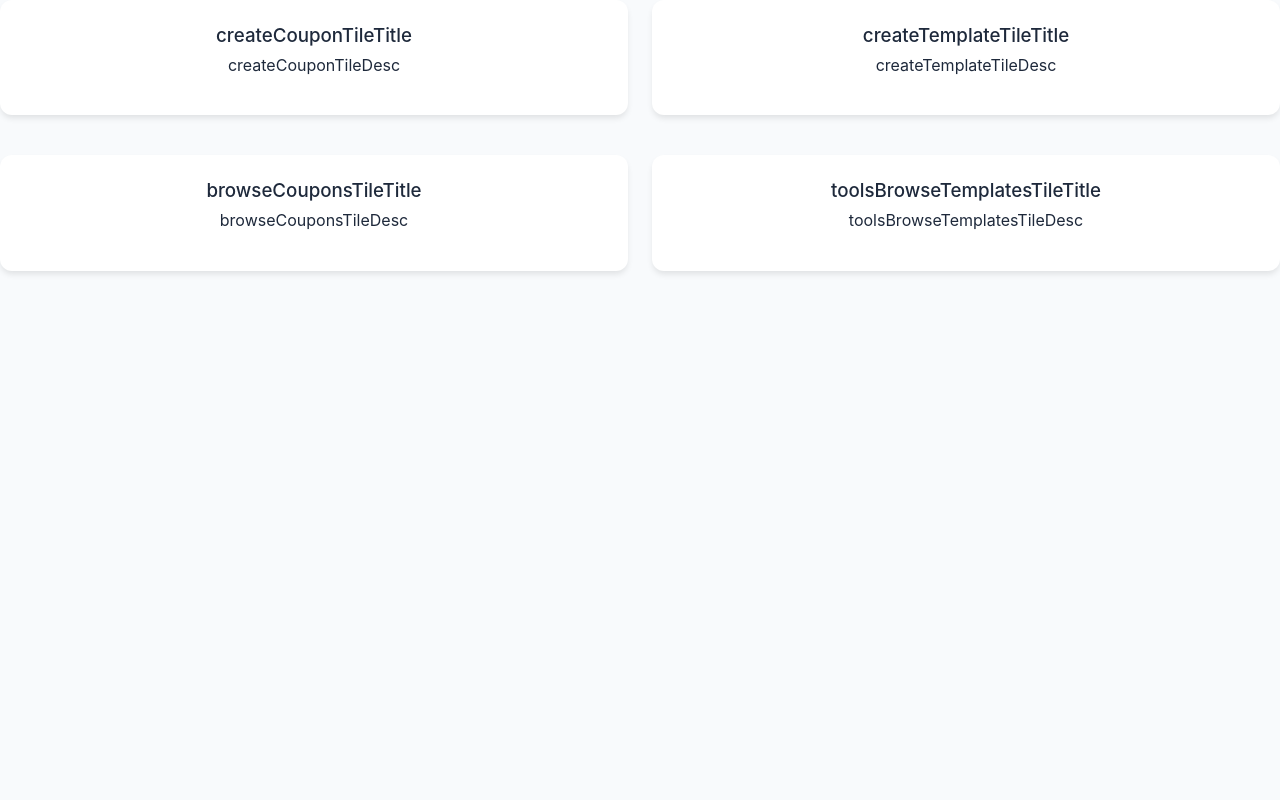
Test: CouponsSection › opens the browse dialog with every coupon
Click the heading "browseCouponsTileTitle" at (314, 191), box [206, 179, 422, 202]
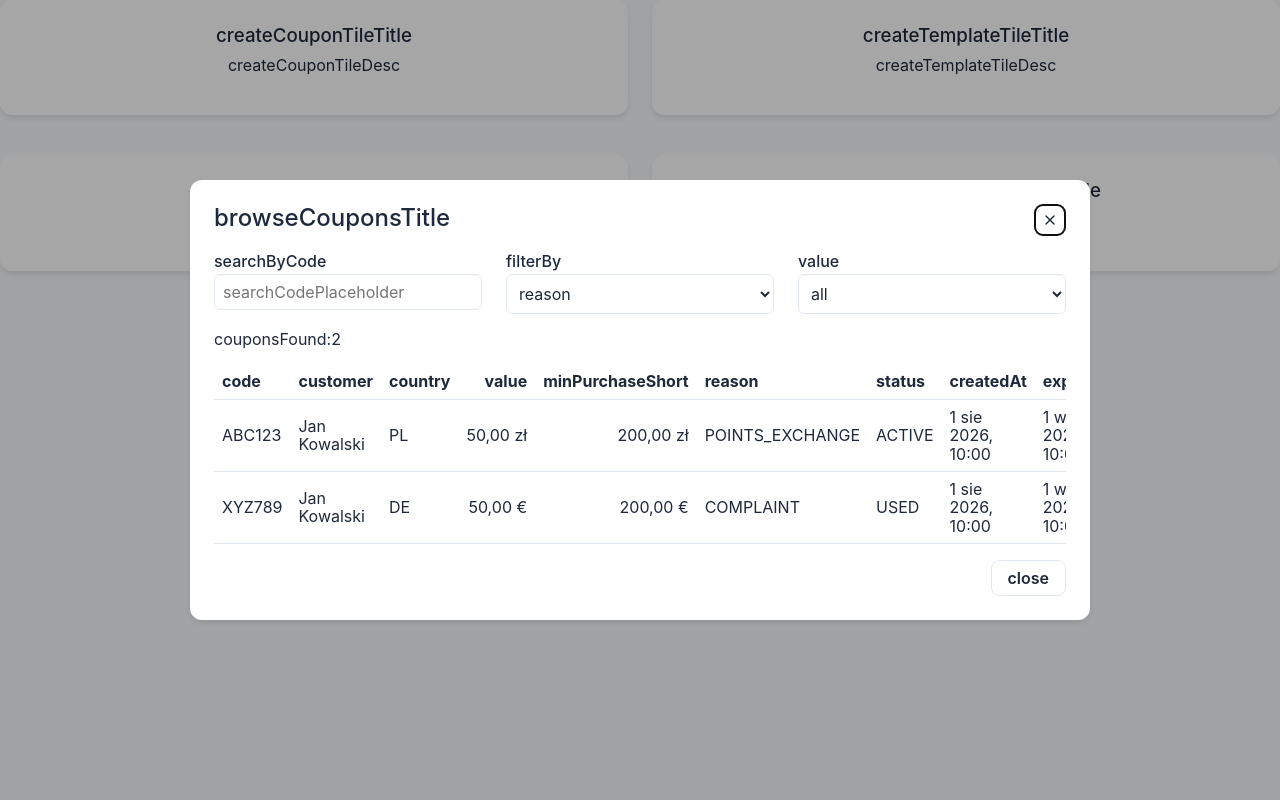
expect the heading "browseCouponsTitle" is shown: met, box [214, 204, 450, 231]
expect the text "ABC123" is shown: met, box [214, 399, 290, 471]
expect the text "XYZ789" is shown: met, box [214, 471, 290, 544]
